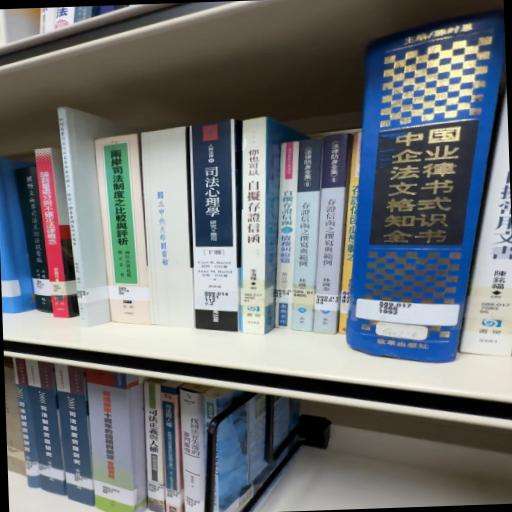backward: (138, 128, 194, 334)
book: (233, 119, 314, 340), (61, 106, 130, 294), (189, 122, 243, 339), (98, 134, 150, 293)
